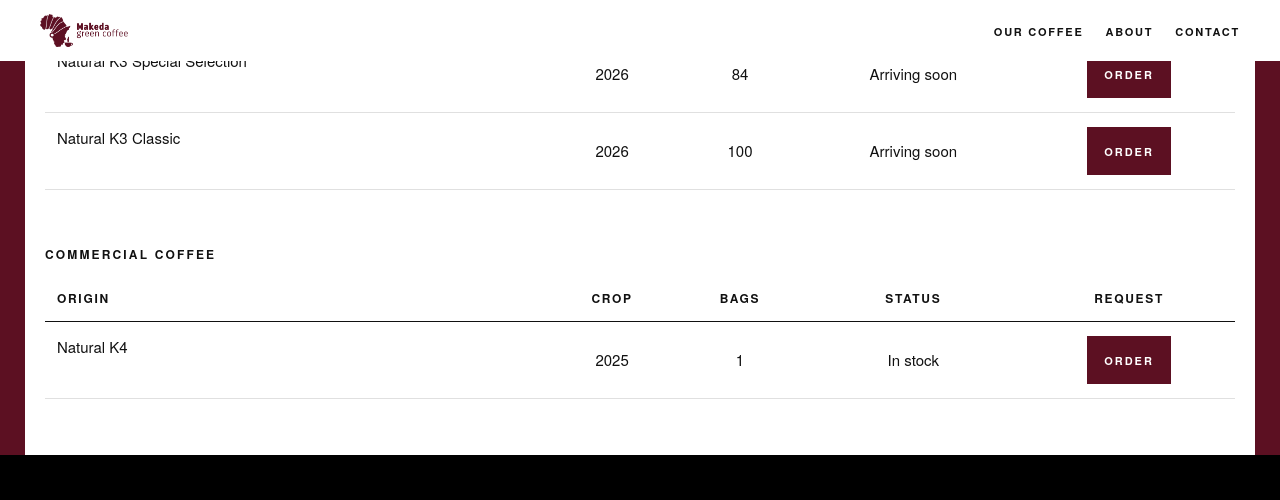
OurCoffeePage › shows a header photo on the coffee enquiry
(page scrolled)
Click the button "Order" in the row of "Natural K4" at (1129, 360), box [1087,336,1171,384]
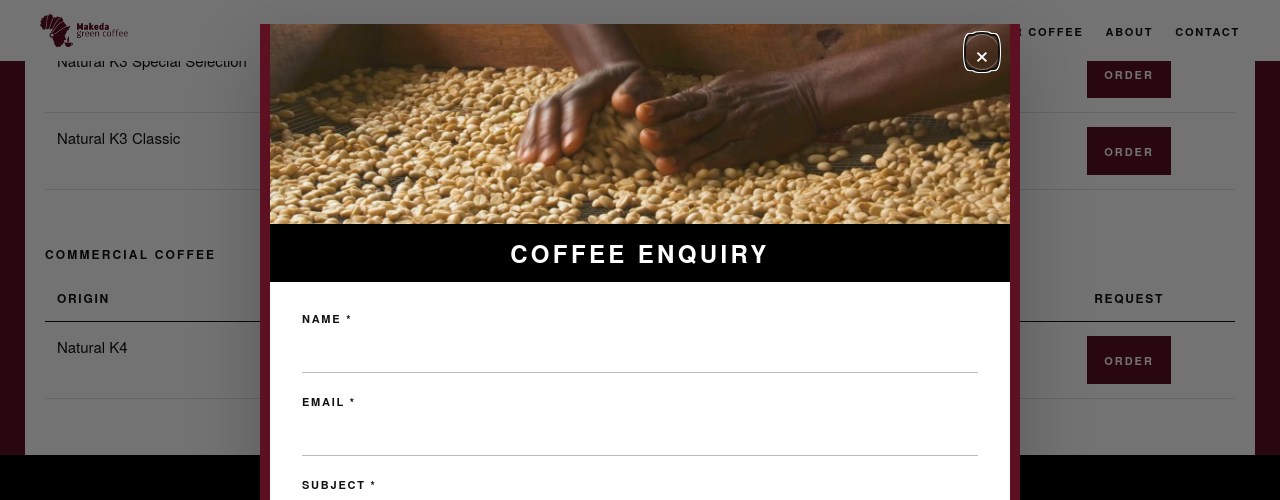
Expected: the picture named "Hands sorting green coffee beans on a drying bed" is shown, [270,24,1010,224]
